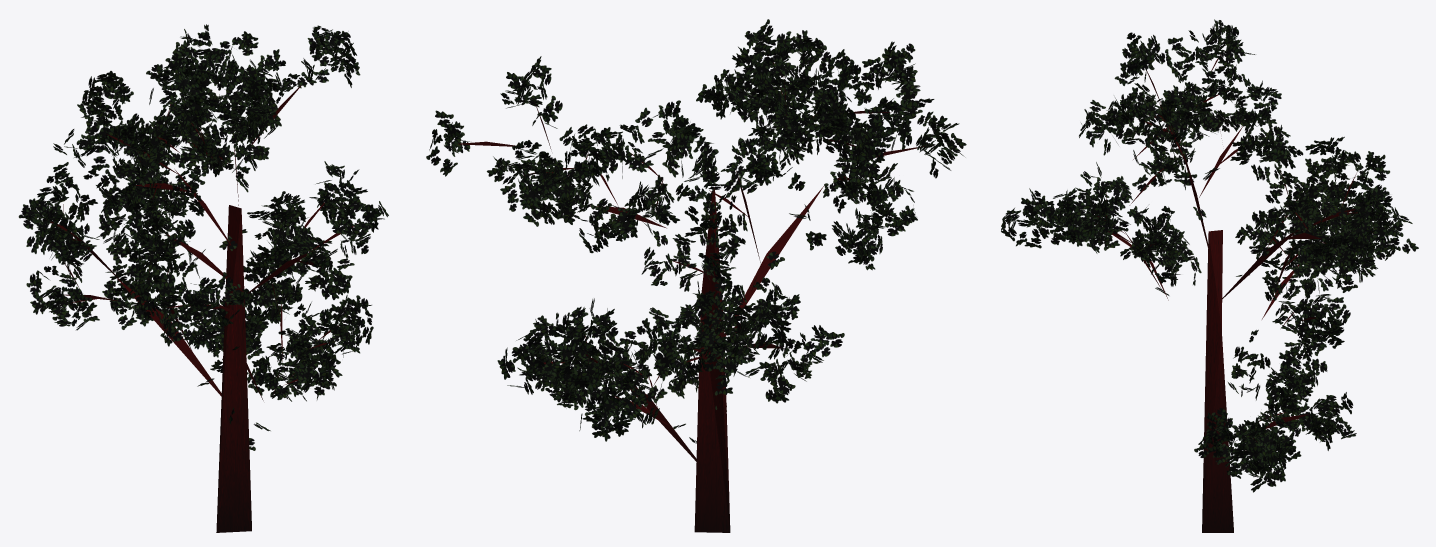
The model's file is evergreen_broad_v02_LOD2.glb.
The picture shows the model from 3 angles, left to right: view 1: azimuth 30°, elevation 25°; view 2: azimuth 150°, elevation 25°; view 3: azimuth 270°, elevation 25°; orthographic projection. The views are drawn at different scales.
Visible parts, largest first — view 1: evergreen_broad_v02_LOD2; view 2: evergreen_broad_v02_LOD2; view 3: evergreen_broad_v02_LOD2.
Boxes of the visible parts, box(x1,y1,x2,y2) form: evergreen_broad_v02_LOD2: box(18, 24, 388, 532); evergreen_broad_v02_LOD2: box(426, 19, 966, 532); evergreen_broad_v02_LOD2: box(1001, 19, 1418, 532).
Size of the model in its own units: 19.88 by 23.42 by 19.68.
2 materials, 2 textured.
